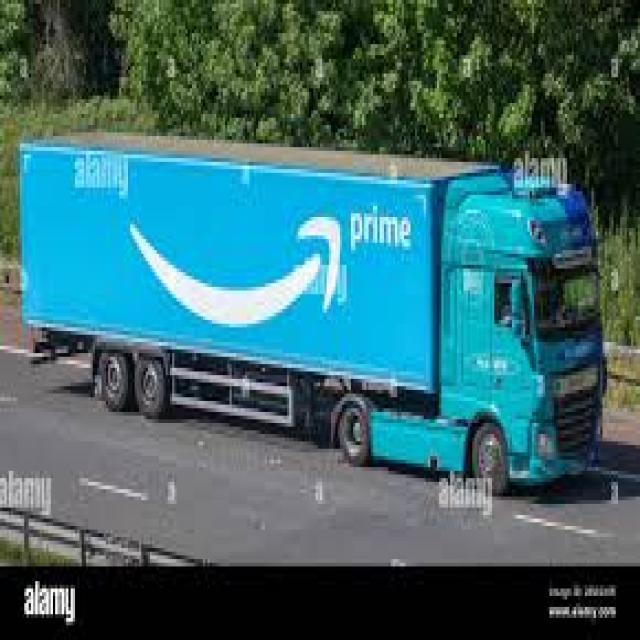covered: (15, 129, 607, 493)
